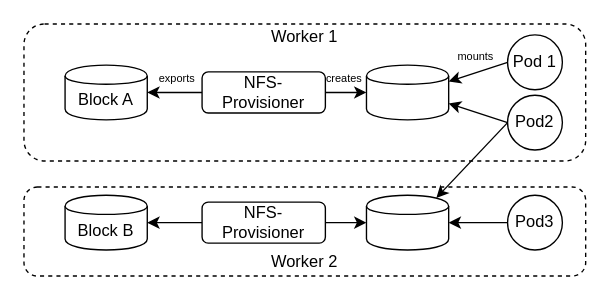
Some shapes in this 610 by 300 pixel diagram are drawn without their labels. The box of each missing label's shape, as (x1, y1, x2, y2) in pixels:
NFS A: (365, 64, 449, 120)
NFS B: (365, 194, 449, 250)
